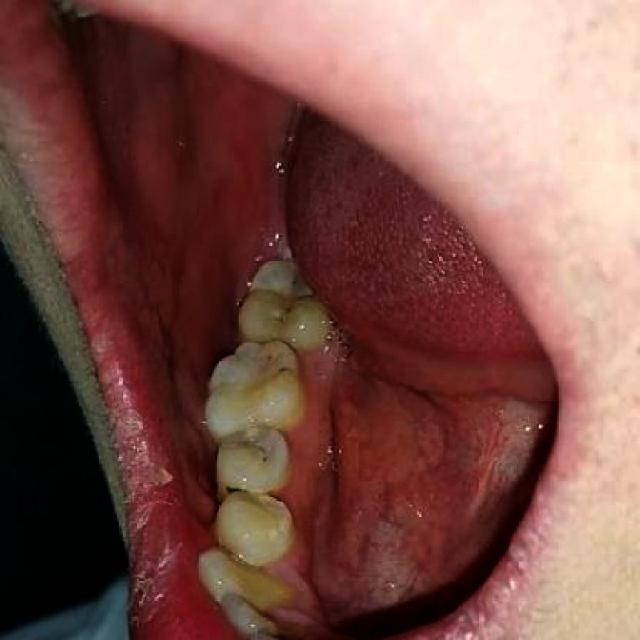Plaque: (270, 270, 312, 328), (240, 436, 271, 471), (272, 363, 298, 379), (260, 351, 277, 365)
